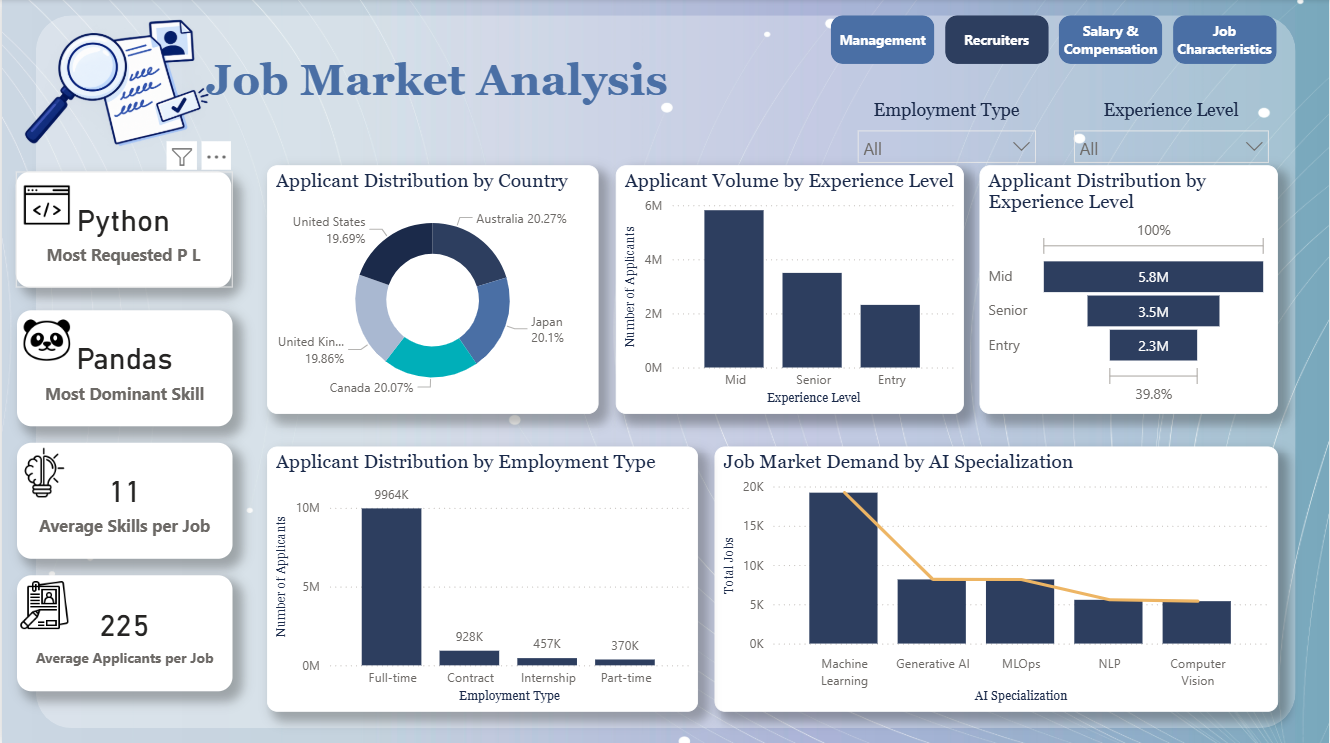

This screenshot's page, from the dashboard's own definition file:
{"tool":"powerbi","page":{"name":"Recruiters ","canvas":[1280,720],"ordinal":1},"visuals":[{"type":"shape","box":[32,16,1216,688],"z":0},{"type":"image","box":[16,0,192,160],"z":1000},{"type":"textbox","box":[192,48,480,64],"z":2000},{"type":"slicer","title":"Experience Level","fields":{"Values":["dim_job_requirement.Experience_Level"]},"box":[1024,96,208,64],"z":3000},{"type":"slicer","title":"Employment Type","fields":{"Values":["dim_job_info.Employment_Type"]},"box":[816,96,192,64],"z":4000},{"type":"pageNavigator","box":[800,16,432,48],"z":5000},{"type":"card","title":"most re","fields":{"Values":["dim_programming_language.Most Requested Programming Language"]},"box":[13.4,166.7,208,112],"z":6000},{"type":"card","fields":{"Values":["dim_skill.Most Dominant Skill"]},"box":[14.3,300.6,208,112],"z":7000},{"type":"card","fields":{"Values":["dim_skill.Average Skills per Job"]},"box":[14.3,428.6,208,112],"z":8000},{"type":"card","fields":{"Values":["dim_job_info.Average Applicants per Job"]},"box":[14.3,556.6,208,112],"z":9000},{"type":"image","box":[19.1,173,48,48],"z":10000},{"type":"image","box":[19.8,305.7,48,48],"z":11000},{"type":"image","box":[16.4,432.9,48,48],"z":12000},{"type":"image","box":[16.4,560.9,48,48],"z":13000},{"type":"lineStackedColumnComboChart","title":"Job Market Demand by AI Specialization","fields":{"Category":["dim_job_info.AI_Specialization"],"Y":["CountNonNull(dim_job_info.job_id)"],"Y2":["CountNonNull(dim_job_info.job_id)"]},"box":[688,432,544,256],"z":14000},{"type":"donutChart","title":"Applicant Distribution by Country","fields":{"Y":["Sum(dim_job_info.Number_of_Applicants)"],"Category":["dim_job_info.Country"]},"box":[256,160,320,240],"z":15000},{"type":"columnChart","title":"Applicant Volume by Experience Level","fields":{"Category":["dim_job_requirement.Experience_Level"],"Y":["Sum(dim_job_info.Number_of_Applicants)"]},"box":[592,160,336,240],"z":16000},{"type":"columnChart","title":"Applicant Distribution by Employment Type","fields":{"Y":["Sum(dim_job_info.Number_of_Applicants)"],"Category":["dim_job_info.Employment_Type"]},"box":[256,432,416,256],"z":17000},{"type":"funnel","title":"Applicant Distribution by Experience Level","fields":{"Y":["Sum(dim_job_info.Number_of_Applicants)"],"Category":["dim_job_requirement.Experience_Level"]},"box":[944,160,288,240],"z":18000}]}

Visuals, with their boxes in screenshot pixels (x1, y1, x2, y2), scaled from the page's 1280x720 canvas onto the 1330x743 screenshot:
shape: {"left": 33, "top": 17, "right": 1297, "bottom": 726}
image: {"left": 17, "top": 0, "right": 216, "bottom": 165}
textbox: {"left": 200, "top": 50, "right": 698, "bottom": 116}
"Experience Level" slicer: {"left": 1064, "top": 99, "right": 1280, "bottom": 165}
"Employment Type" slicer: {"left": 848, "top": 99, "right": 1047, "bottom": 165}
pageNavigator: {"left": 831, "top": 17, "right": 1280, "bottom": 66}
"most re" card: {"left": 14, "top": 172, "right": 230, "bottom": 288}
card - dim_skill.Most Dominant Skill: {"left": 15, "top": 310, "right": 231, "bottom": 426}
card - dim_skill.Average Skills per Job: {"left": 15, "top": 442, "right": 231, "bottom": 558}
card - dim_job_info.Average Applicants per Job: {"left": 15, "top": 574, "right": 231, "bottom": 690}
image: {"left": 20, "top": 179, "right": 70, "bottom": 228}
image: {"left": 21, "top": 315, "right": 70, "bottom": 365}
image: {"left": 17, "top": 447, "right": 67, "bottom": 496}
image: {"left": 17, "top": 579, "right": 67, "bottom": 628}
"Job Market Demand by AI Specialization" lineStackedColumnComboChart: {"left": 715, "top": 446, "right": 1280, "bottom": 710}
"Applicant Distribution by Country" donutChart: {"left": 266, "top": 165, "right": 598, "bottom": 413}
"Applicant Volume by Experience Level" columnChart: {"left": 615, "top": 165, "right": 964, "bottom": 413}
"Applicant Distribution by Employment Type" columnChart: {"left": 266, "top": 446, "right": 698, "bottom": 710}
"Applicant Distribution by Experience Level" funnel: {"left": 981, "top": 165, "right": 1280, "bottom": 413}
